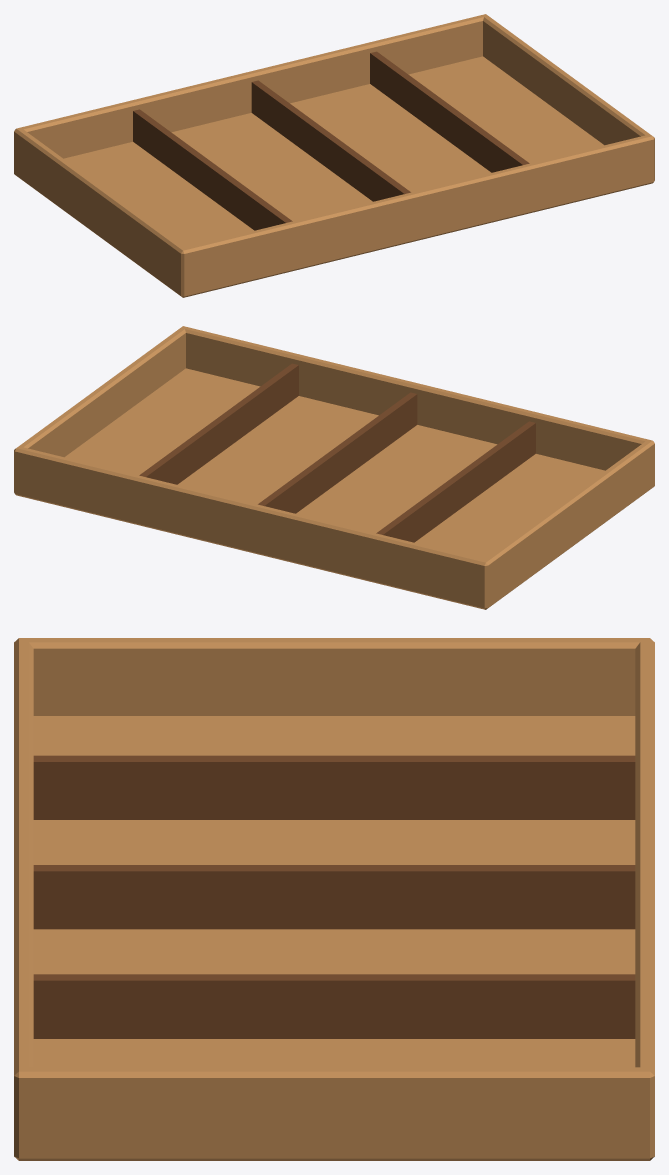
The model's file is PartsTray.fbx.
3 renders of one model, top to bottom at view 1: azimuth 30°, elevation 25°; view 2: azimuth 150°, elevation 25°; view 3: azimuth 270°, elevation 25°, orthographic. The views are drawn at different scales.
Visible parts, largest first — view 1: PartsTray_Box, PartsTray_Dividers; view 2: PartsTray_Box, PartsTray_Dividers; view 3: PartsTray_Box, PartsTray_Dividers.
Part boxes in pixels (x1,y1,x2,y2): PartsTray_Box: [14, 14, 654, 297]; PartsTray_Dividers: [133, 51, 529, 230]; PartsTray_Box: [14, 326, 654, 609]; PartsTray_Dividers: [139, 363, 535, 542]; PartsTray_Box: [14, 638, 654, 1160]; PartsTray_Dividers: [33, 755, 635, 1038].
Bounding box in the file's own units: 0.42 × 0.04 × 0.26.
